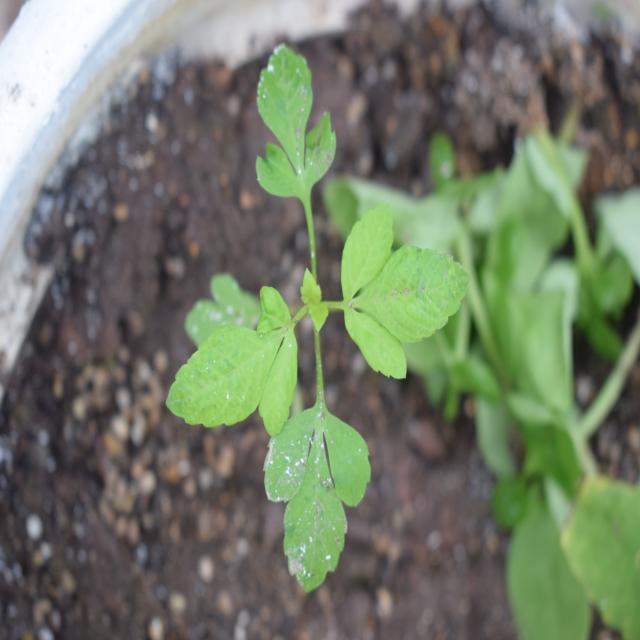Bidens pilosa: (169, 39, 475, 621)
